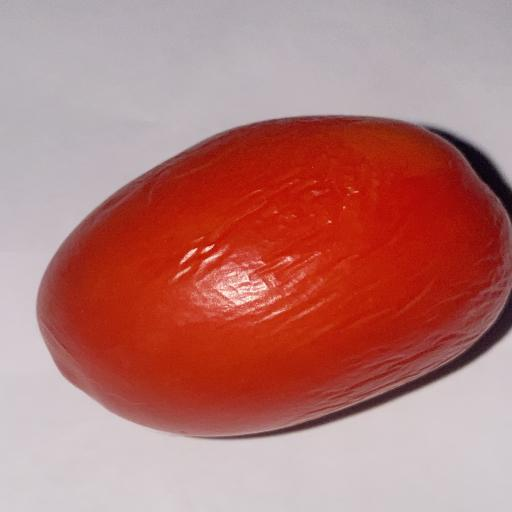spoiled: (37, 116, 512, 437)
